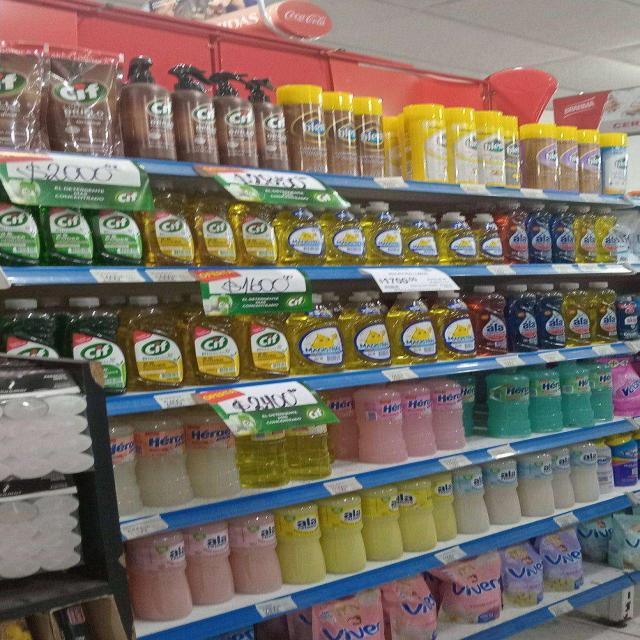ala_conc_amarillo: (564, 281, 591, 347), (590, 281, 616, 344), (575, 205, 596, 264), (596, 206, 616, 264)
ala_conc_azul: (508, 283, 538, 353), (538, 282, 564, 350), (527, 202, 550, 264), (552, 203, 574, 264), (617, 281, 638, 341)
ala_conc_rojo: (474, 285, 508, 356), (502, 200, 528, 265)
ala_crem_amarillo: (280, 502, 322, 586), (324, 493, 364, 576), (365, 486, 400, 562), (401, 479, 433, 553), (434, 472, 455, 544)
ala_crem_blanco: (488, 457, 520, 526), (457, 464, 487, 537), (522, 453, 553, 517), (575, 442, 600, 505), (554, 447, 574, 510)
ala_crem_rosado: (132, 531, 188, 623), (233, 511, 279, 596), (190, 521, 232, 607)
cif_conc_bot_amarilla: (126, 294, 183, 391), (187, 296, 240, 386), (145, 182, 192, 266), (242, 307, 288, 380), (194, 184, 234, 266), (235, 190, 276, 267)
cif_conc_botella_verde: (66, 296, 124, 397), (1, 297, 61, 361), (43, 189, 92, 267), (95, 186, 142, 266), (0, 177, 40, 267)
heroe: (138, 411, 188, 509), (189, 408, 240, 499), (357, 382, 404, 464), (486, 366, 529, 438), (404, 378, 434, 459), (530, 362, 562, 434), (564, 358, 591, 428)
magistral_con_amarillo: (290, 294, 342, 375), (344, 292, 389, 369), (391, 290, 434, 365), (278, 200, 323, 266), (436, 288, 473, 359), (324, 201, 363, 266), (364, 201, 401, 265), (402, 209, 437, 265), (439, 212, 475, 266), (475, 212, 502, 264)
